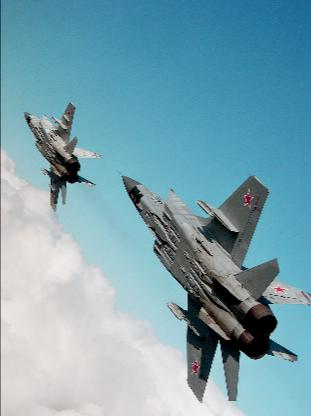Mig31: (116, 169, 310, 405), (21, 100, 101, 212)
